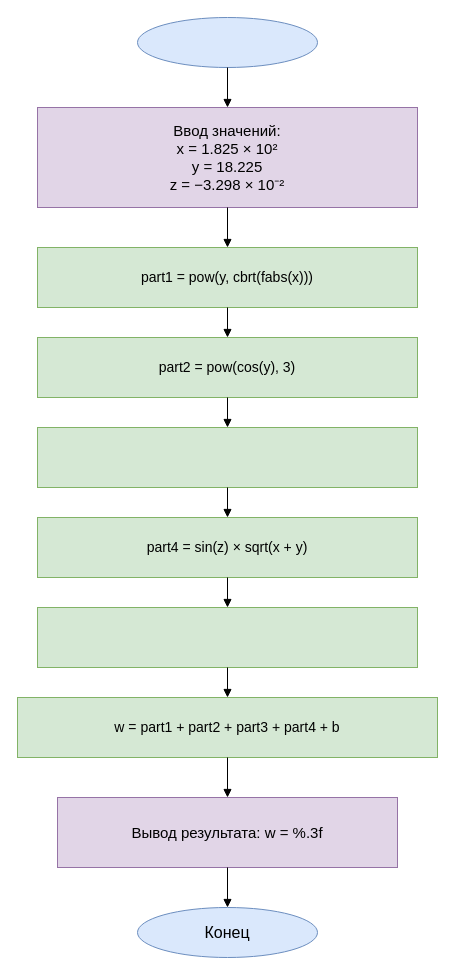
This 455x975 diagram has some shape labels left out. Here are the shapes that lost their labels. From the top down, the box of each, then its label:
(136, 16, 318, 68): Начало
(36, 426, 418, 488): part3 = fabs(x − y)
(36, 606, 418, 668): b = exp(fabs(x − y)) + x / 2.0
